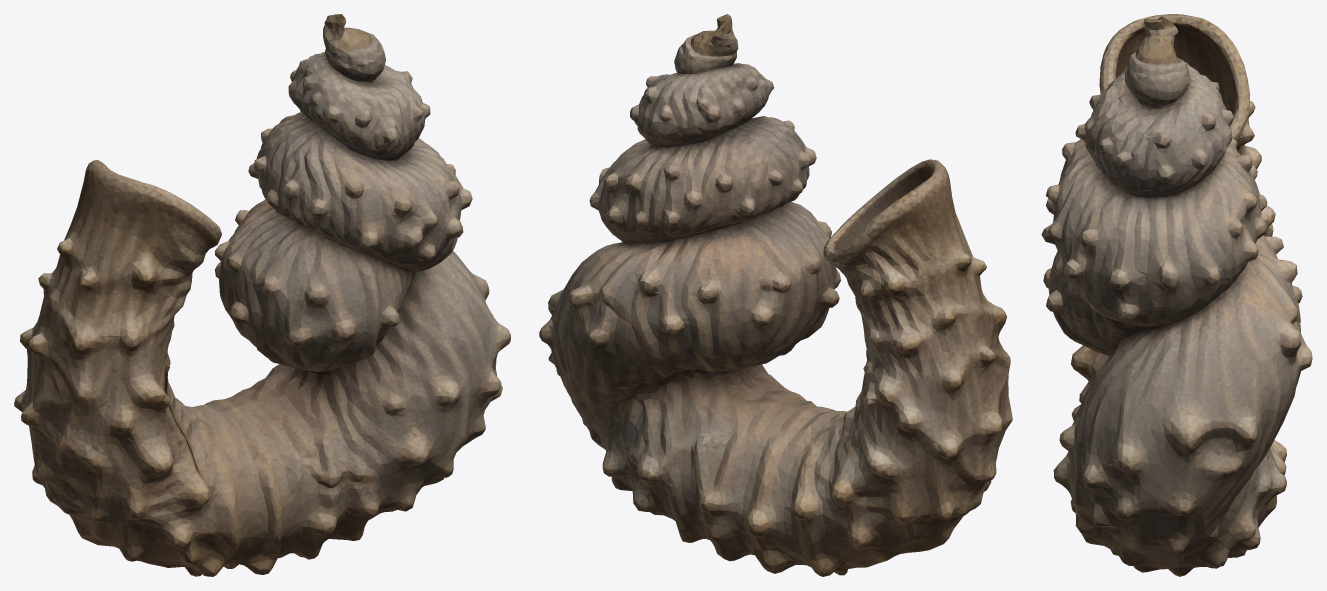
3 views of the same model, side by side, from view 1: azimuth 30°, elevation 25°; view 2: azimuth 150°, elevation 25°; view 3: azimuth 270°, elevation 25° (orthographic). The views are drawn at different scales.
Parts seen in each view (by area): view 1: world; view 2: world; view 3: world.
Boxes of the visible parts, box(x1,y1,x2,y2) form: world: box(14, 14, 510, 576); world: box(539, 14, 1012, 576); world: box(1041, 14, 1312, 576).
Size of the model in its own units: 0.9016 by 0.9907 by 0.4308.
1 material, 1 textured.
